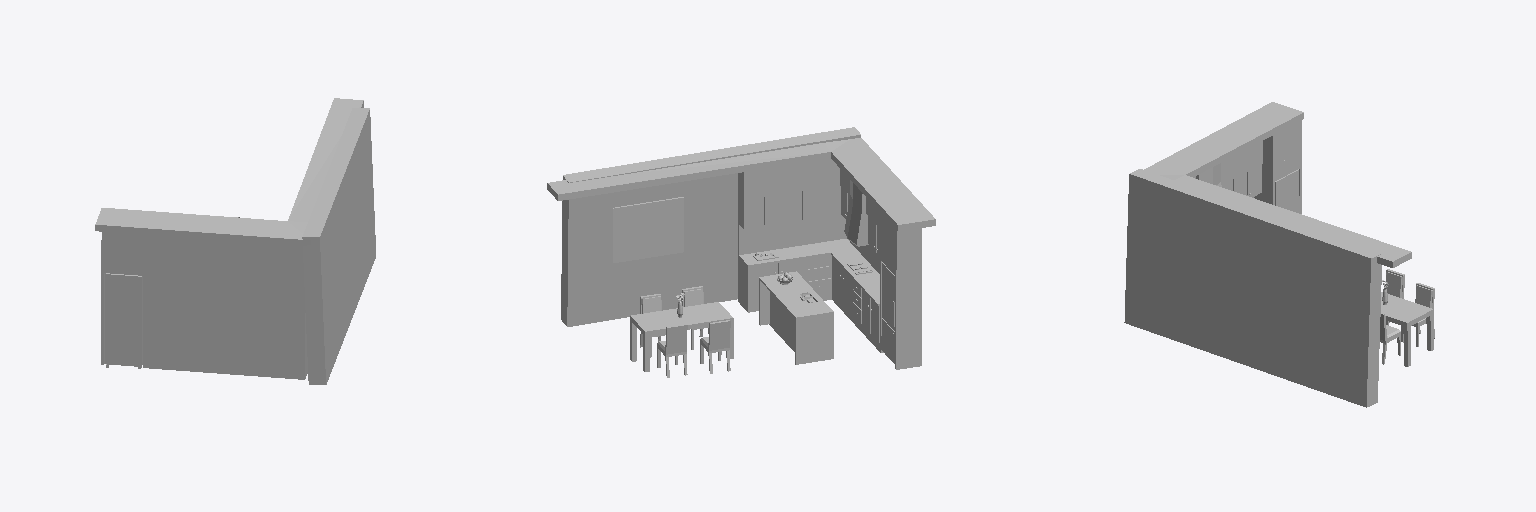
The picture shows the model from 3 angles: view 1: azimuth 30°, elevation 25°; view 2: azimuth 150°, elevation 25°; view 3: azimuth 270°, elevation 25°; orthographic projection.
Parts seen in each view (by area): view 1: group[number redacted], group[number redacted], group[number redacted], group[number redacted], group[number redacted], group[number redacted], group[number redacted]; view 2: group[number redacted], group[number redacted], group[number redacted], group[number redacted], group[number redacted], group[number redacted], group[number redacted], group[number redacted], group[number redacted], group[number redacted], group[number redacted], group[number redacted] (+6 smaller); view 3: group[number redacted], group[number redacted], group[number redacted], group[number redacted], group[number redacted], group[number redacted].
Boxes of the visible parts, box(x1,y1,x2,y2) form: group[number redacted]: box(302, 108, 375, 384); group[number redacted]: box(101, 257, 307, 379); group[number redacted]: box(95, 98, 363, 245); group[number redacted]: box(101, 232, 303, 271); group[number redacted]: box(146, 289, 305, 331); group[number redacted]: box(146, 260, 304, 300); group[number redacted]: box(105, 273, 142, 366); group[number redacted]: box(561, 127, 860, 326); group[number redacted]: box(547, 138, 935, 231); group[number redacted]: box(738, 159, 921, 260); group[number redacted]: box(750, 244, 921, 369); group[number redacted]: box(738, 214, 879, 273); group[number redacted]: box(738, 239, 879, 312); group[number redacted]: box(787, 302, 833, 364); group[number redacted]: box(630, 302, 733, 335); group[number redacted]: box(759, 271, 812, 325); group[number redacted]: box(844, 180, 868, 245); group[number redacted]: box(769, 292, 794, 351); group[number redacted]: box(882, 262, 894, 330); group[number redacted]: box(1124, 169, 1381, 407); group[number redacted]: box(1144, 102, 1411, 267); group[number redacted]: box(1193, 120, 1301, 184); group[number redacted]: box(1254, 152, 1301, 213); group[number redacted]: box(1381, 292, 1433, 327); group[number redacted]: box(1275, 169, 1298, 212).
Size of the model in its own units: 0.2138 by 0.0952 by 0.1752.